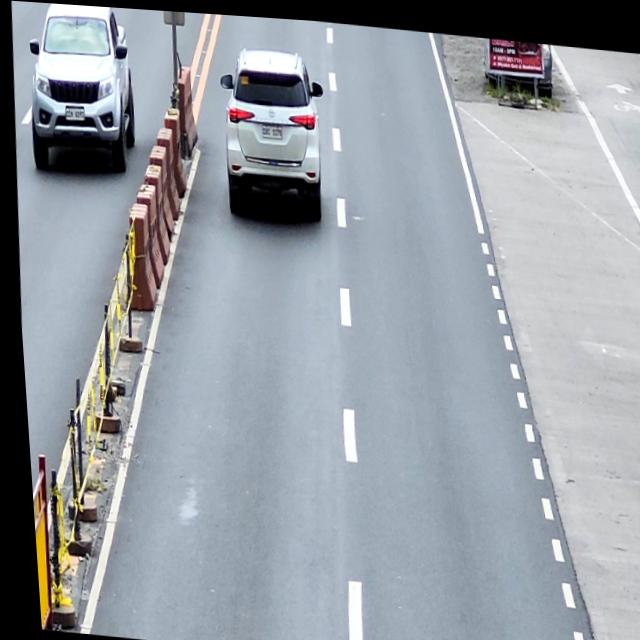Car: (21, 1, 140, 178), (213, 41, 330, 219)
License-Plate: (259, 121, 281, 136), (62, 106, 83, 121)
